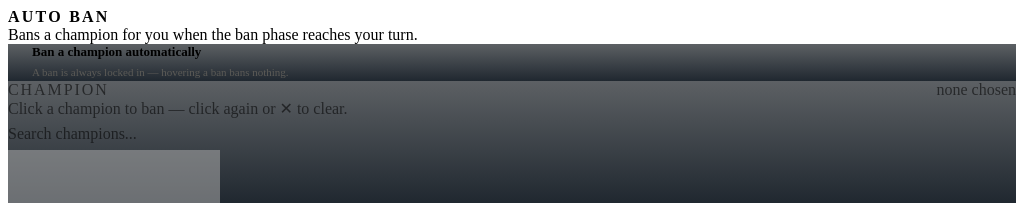
it: AutoBanScreen › keeps its own search query
The image size is (1024, 220).
Type "kat" into the search field at x=512, y=134, box [8,118,1016,150]
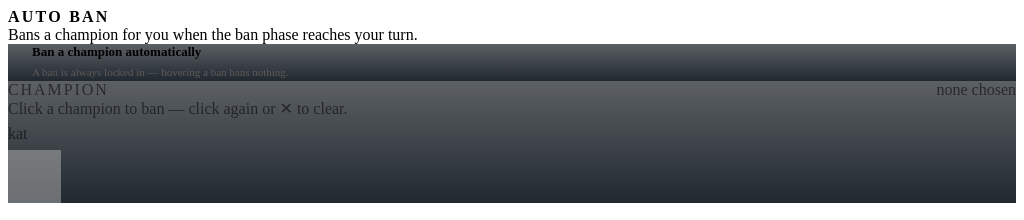
Check: the button "Ahri" is gone
